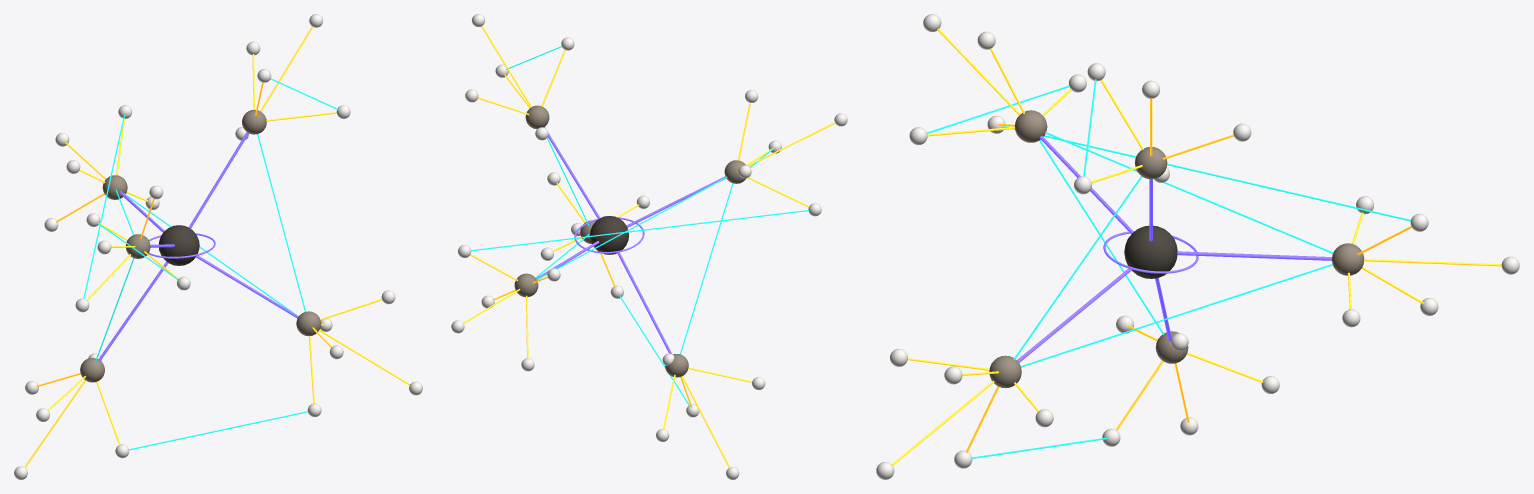
The model's file is mind-map.glb.
The picture shows the model from 3 angles, left to right: view 1: azimuth 30°, elevation 25°; view 2: azimuth 150°, elevation 25°; view 3: azimuth 270°, elevation 25°; orthographic projection. The views are drawn at different scales.
Visible parts, largest first — view 1: neural_networks, backpropagation, training_craft, software_2_0, language_models, transformers; view 2: neural_networks, link_nanogpt__self_attention, backpropagation, transformers; view 3: neural_networks, language_models, transformers, training_craft, backpropagation, link_nanogpt__self_attention, link_transformers__training_craft, link_neural_networks__transformers.
Boxes of the visible parts, left/top/right/bottom form: neural_networks: left=158, top=225, right=199, bottom=265; backpropagation: left=242, top=109, right=266, bottom=134; training_craft: left=296, top=311, right=321, bottom=336; software_2_0: left=80, top=358, right=104, bottom=382; language_models: left=126, top=234, right=150, bottom=258; transformers: left=102, top=175, right=127, bottom=199; neural_networks: left=590, top=216, right=628, bottom=254; link_nanogpt__self_attention: left=471, top=210, right=809, bottom=251; backpropagation: left=525, top=105, right=549, bottom=128; transformers: left=514, top=273, right=538, bottom=297; neural_networks: left=1124, top=225, right=1177, bottom=278; language_models: left=1014, top=110, right=1047, bottom=142; transformers: left=1331, top=243, right=1364, bottom=275; training_craft: left=989, top=355, right=1021, bottom=388; backpropagation: left=1135, top=147, right=1167, bottom=179; link_nanogpt__self_attention: left=1003, top=126, right=1410, bottom=221; link_transformers__training_craft: left=1020, top=264, right=1332, bottom=367; link_neural_networks__transformers: left=1177, top=251, right=1331, bottom=260.
Bounding box in the file's own units: 2.34 × 2.95 × 3.23.
